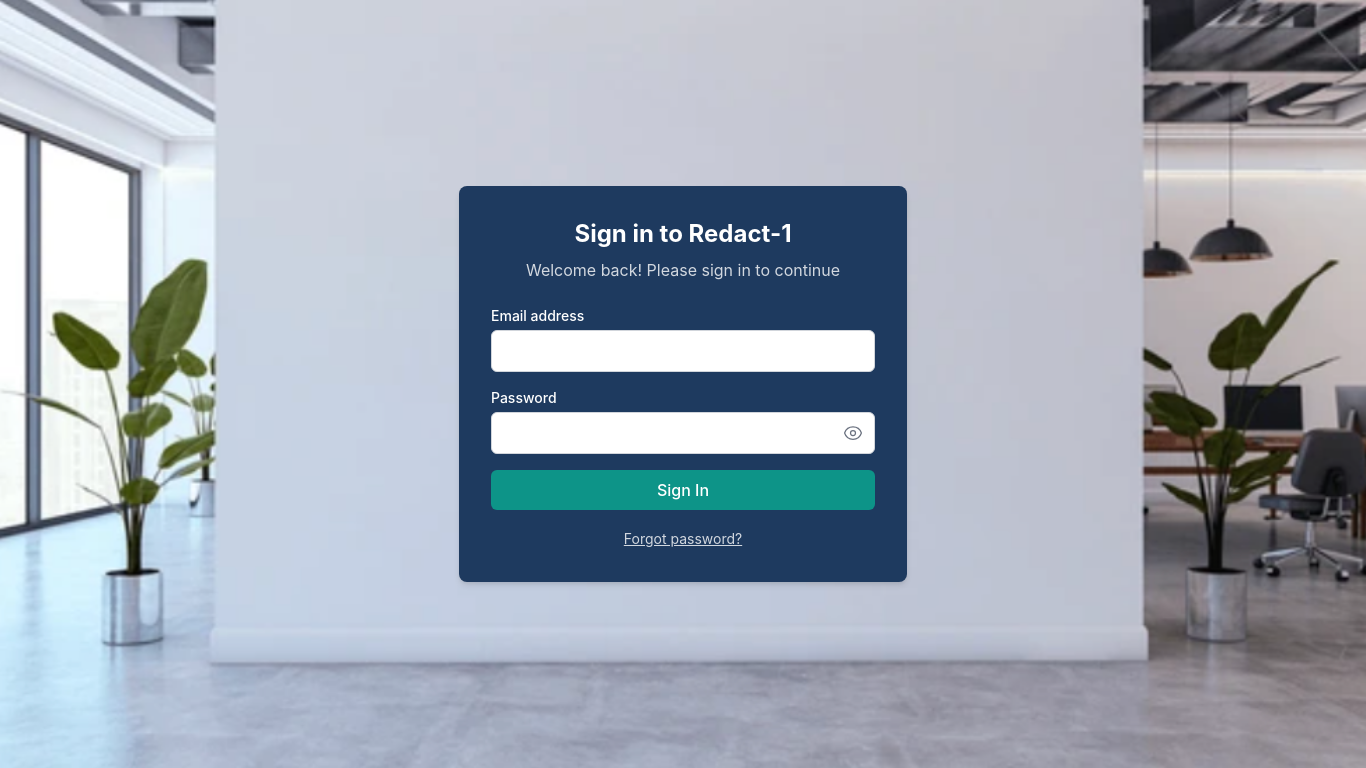
SignInPage › Sign In Form › shows error message on failed sign in
Type "test@example.com" into the field. click: (683, 351)
box: top-left (491, 330), bottom-right (875, 372)
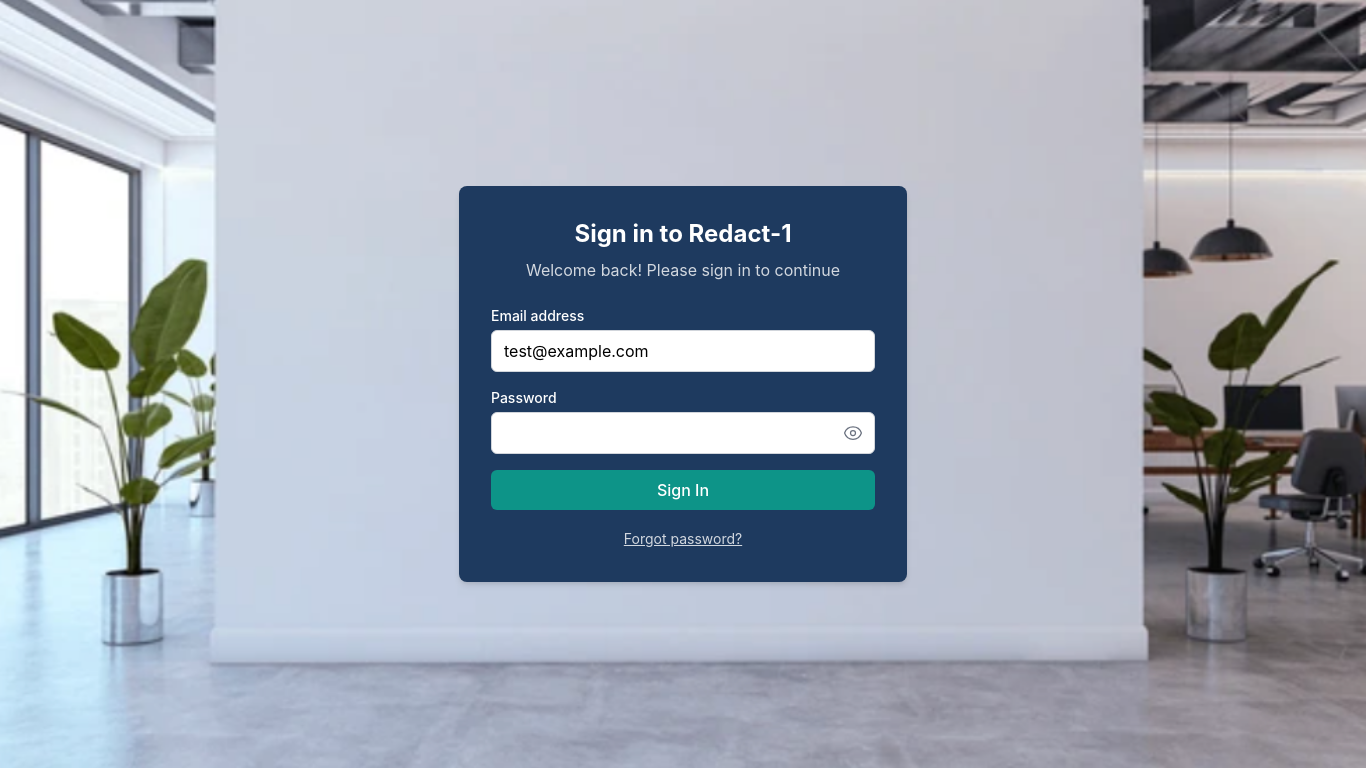
Type "wrongpassword" into the password field. click: (683, 433)
box: top-left (491, 412), bottom-right (875, 454)
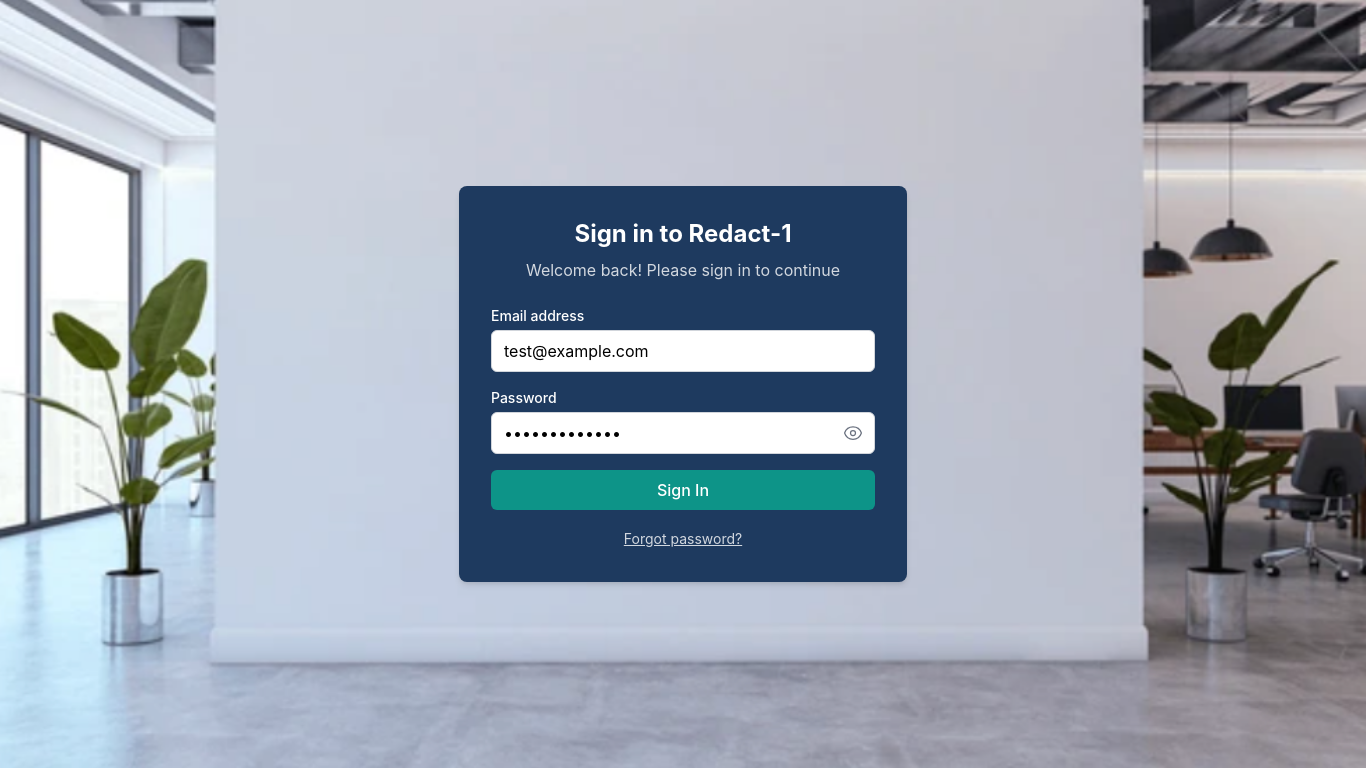
Click the button "Sign In". click: (683, 490)
box: top-left (491, 470), bottom-right (875, 510)
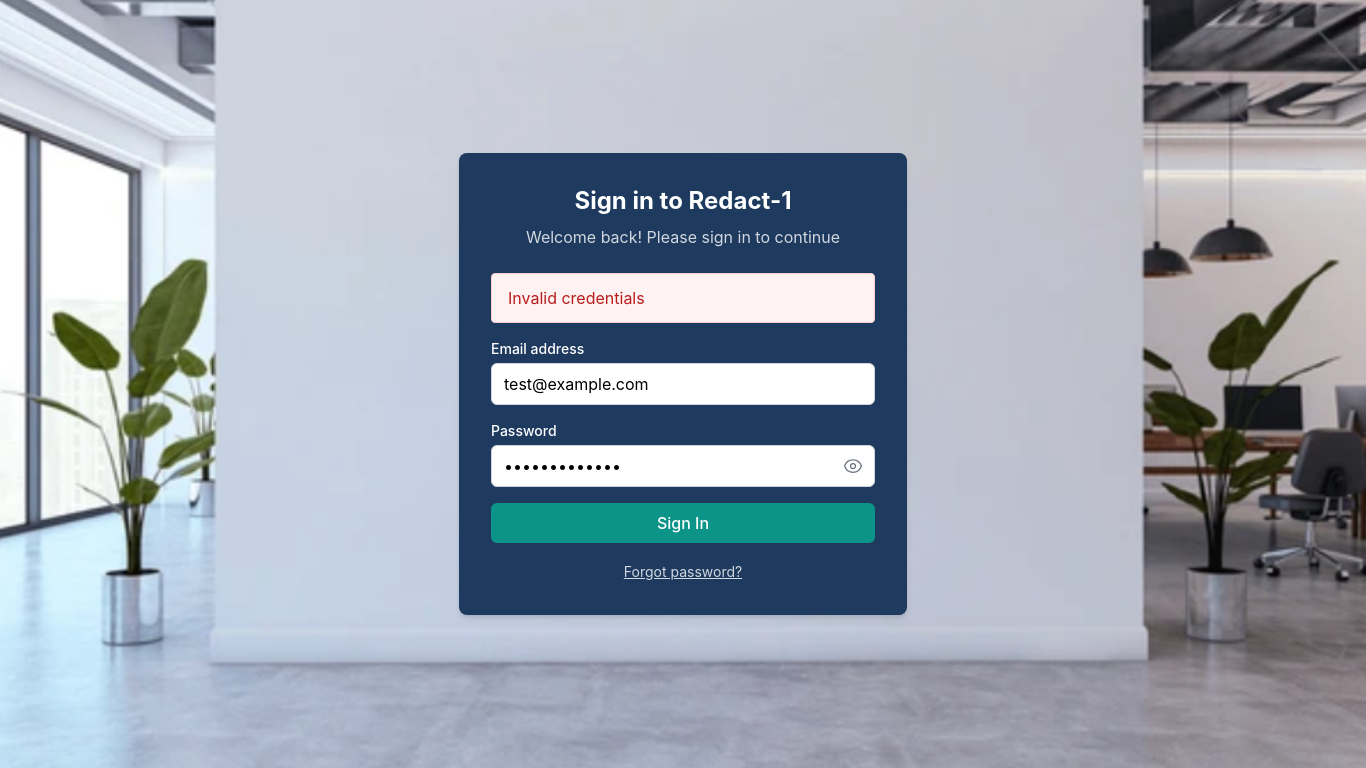
Now the text "Invalid credentials" is shown, box top-left (491, 273), bottom-right (875, 323)
